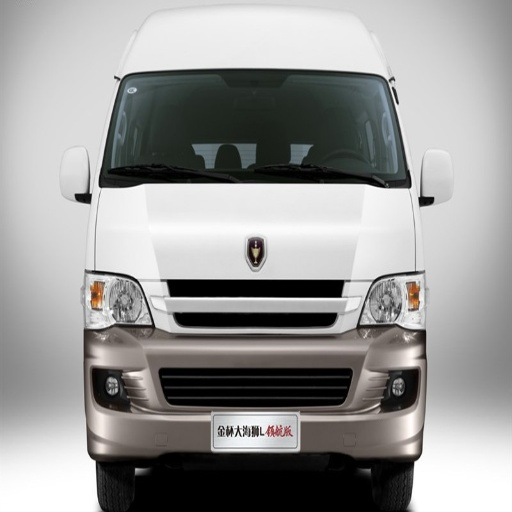front_bumper: (83, 279, 425, 458)
front_right_light: (82, 270, 150, 329)
hood: (93, 184, 417, 280)
left_mirror: (420, 149, 452, 206)
